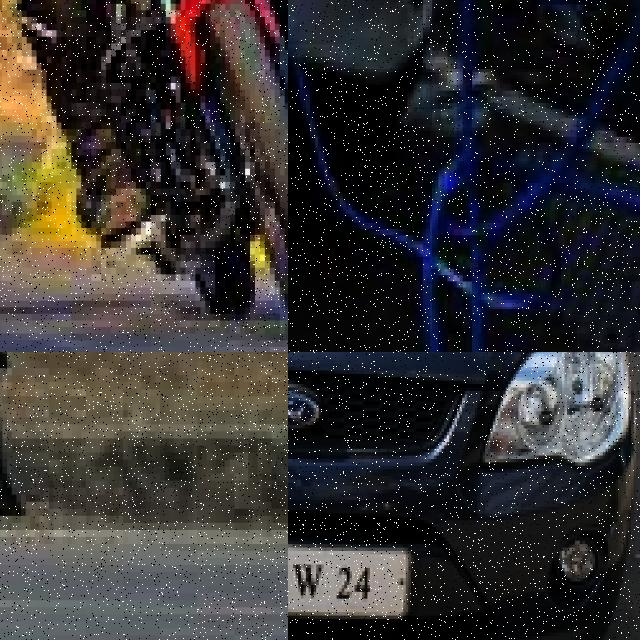bike: (0, 0, 288, 340), (0, 352, 58, 640)
car: (288, 352, 640, 640), (288, 0, 444, 269)
